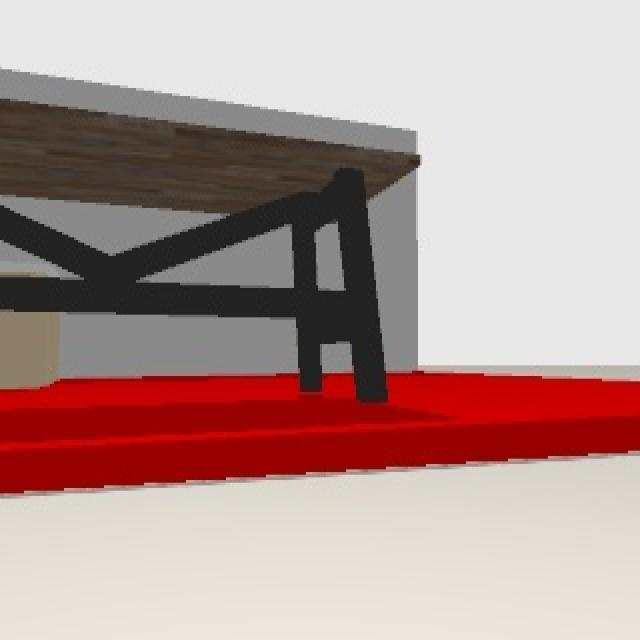dining: (1, 95, 421, 405)
